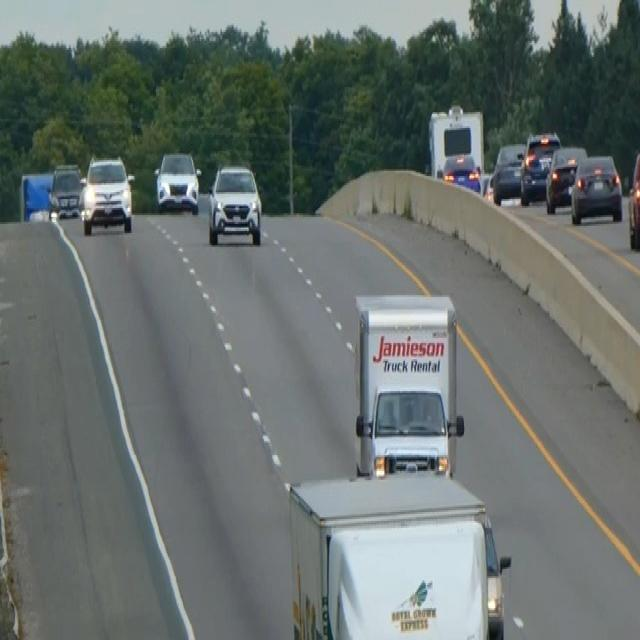car: (80, 153, 134, 235), (570, 151, 623, 224), (153, 148, 201, 215), (519, 130, 561, 204), (544, 144, 587, 213), (490, 140, 525, 202), (48, 160, 84, 219), (439, 149, 482, 194), (19, 170, 57, 220), (627, 149, 639, 249)
jeep: (206, 158, 263, 247)
truck: (351, 290, 464, 478)
